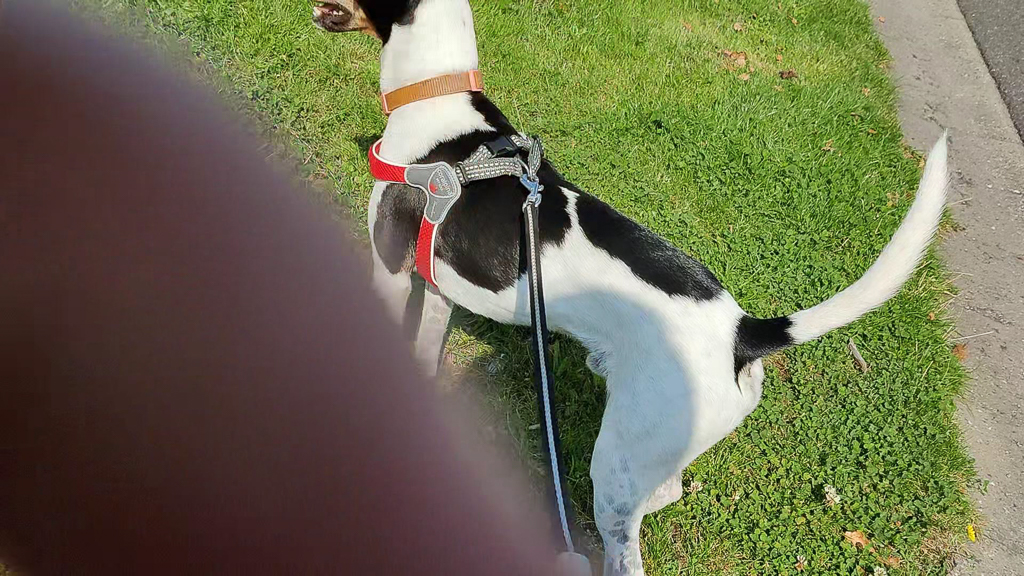Dog: (301, 0, 956, 576)
Humanoid: (0, 0, 633, 576)
